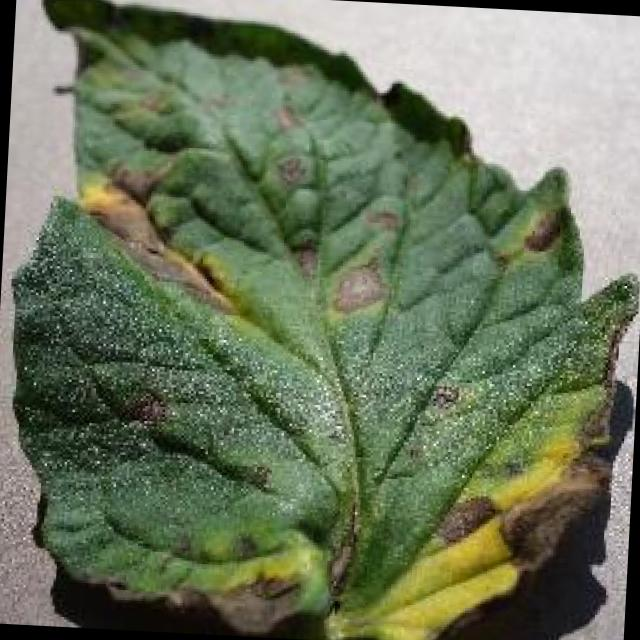Tomato_Early_Blight: (381, 117, 640, 640), (58, 64, 396, 349), (79, 498, 357, 638)
